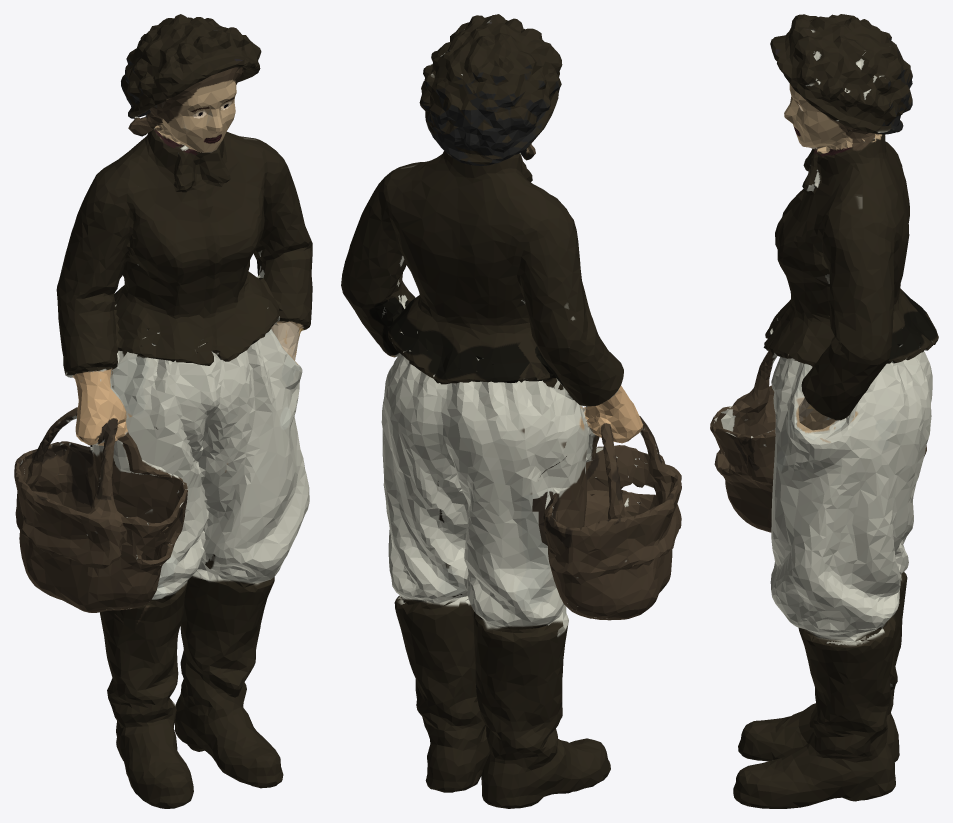
File: Visservrouwkleur_test.glb
The picture shows the model from 3 angles, left to right: view 1: azimuth 30°, elevation 25°; view 2: azimuth 150°, elevation 25°; view 3: azimuth 270°, elevation 25°; orthographic projection. The views are drawn at different scales.
Parts seen in each view (by area): view 1: Visservrouw; view 2: Visservrouw; view 3: Visservrouw.
Part boxes in pixels (x1=…): Visservrouw: x1=14, y1=14, x2=312, y2=808; Visservrouw: x1=341, y1=14, x2=681, y2=808; Visservrouw: x1=710, y1=14, x2=938, y2=808.
Bounding box in the file's own units: 0.83 × 1.96 × 0.5299.
Materials: 1 (1 with a texture image).
